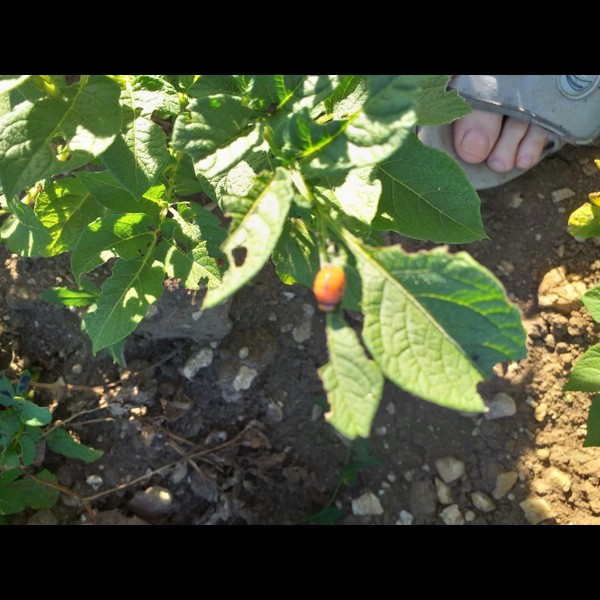hrosc: (310, 258, 347, 317)
